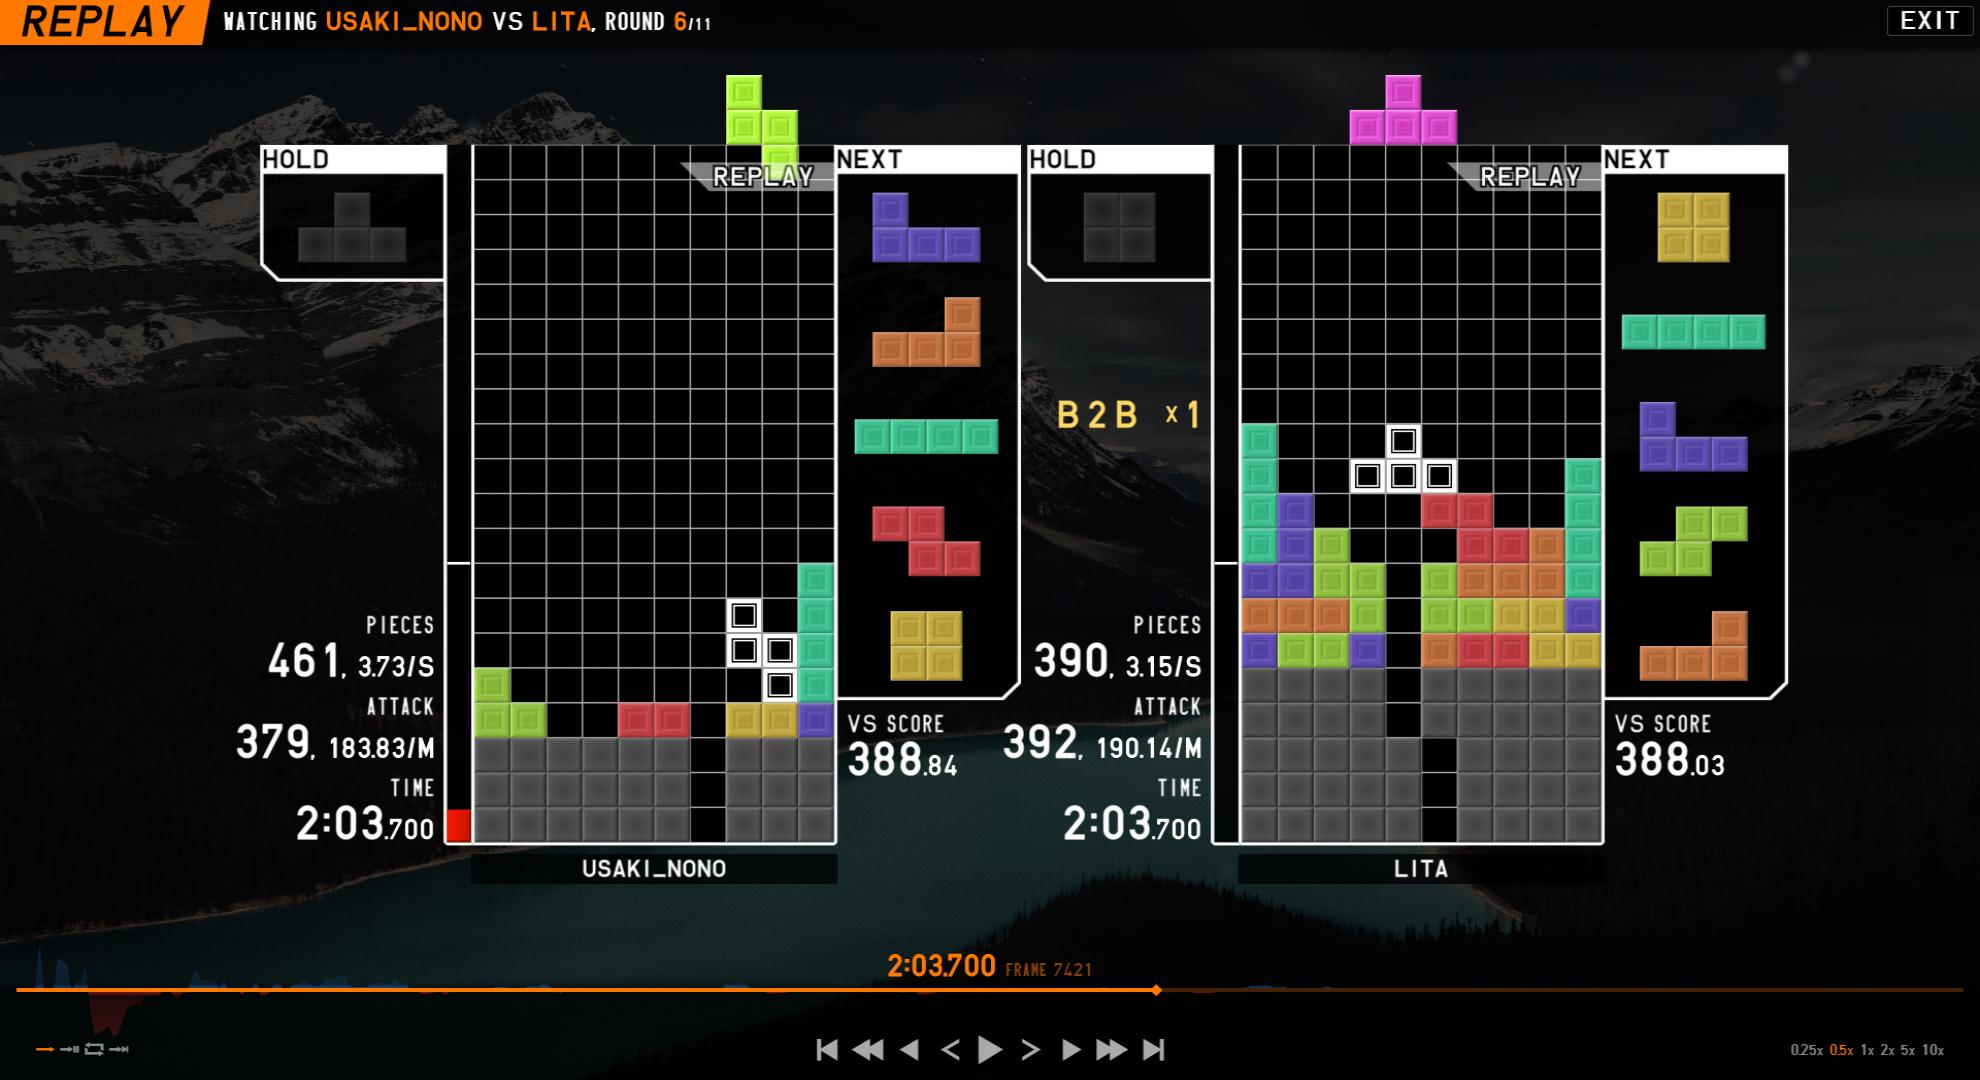tspin: (1348, 495, 1453, 595)
